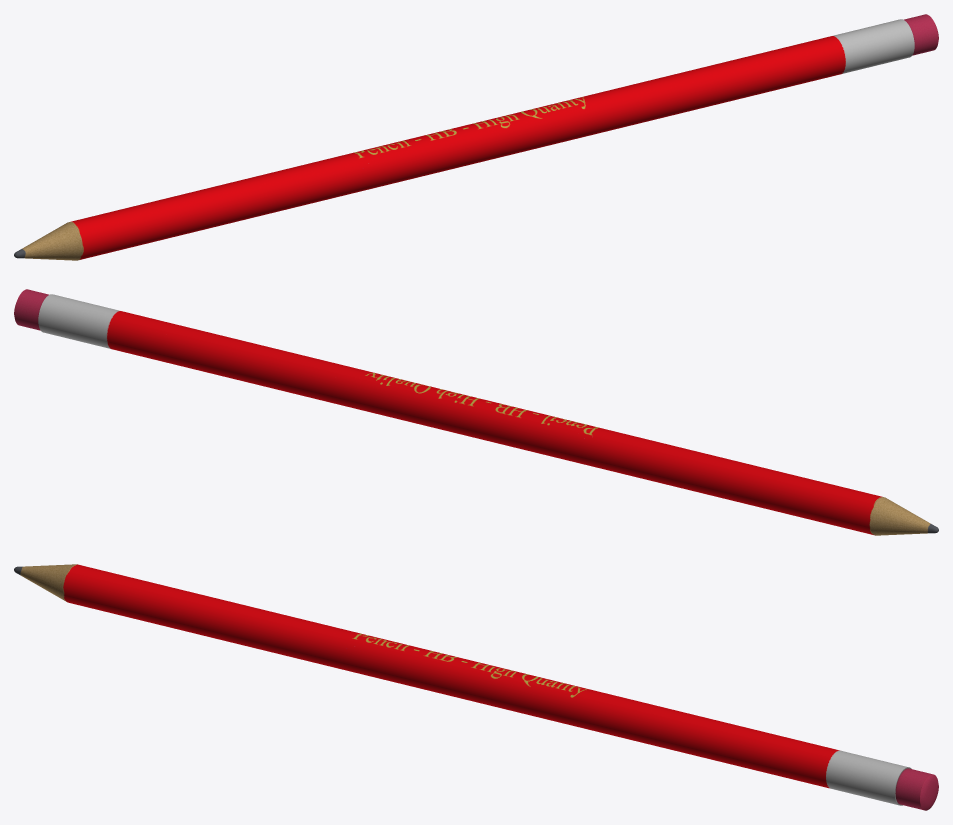
File: uploads_files_5636246_pencil.fbx
3 renders of one model, top to bottom at view 1: azimuth 30°, elevation 25°; view 2: azimuth 150°, elevation 25°; view 3: azimuth 330°, elevation 25°, orthographic.
Visible parts, largest first — view 1: pencil; view 2: pencil; view 3: pencil.
Part boxes in pixels (left/top/right/bottom): pencil: left=14, top=14, right=938, bottom=260; pencil: left=14, top=289, right=938, bottom=535; pencil: left=14, top=564, right=938, bottom=810.
Bounding box in the file's own units: 18.76 × 0.7 × 0.7.
1 material, 1 textured.
